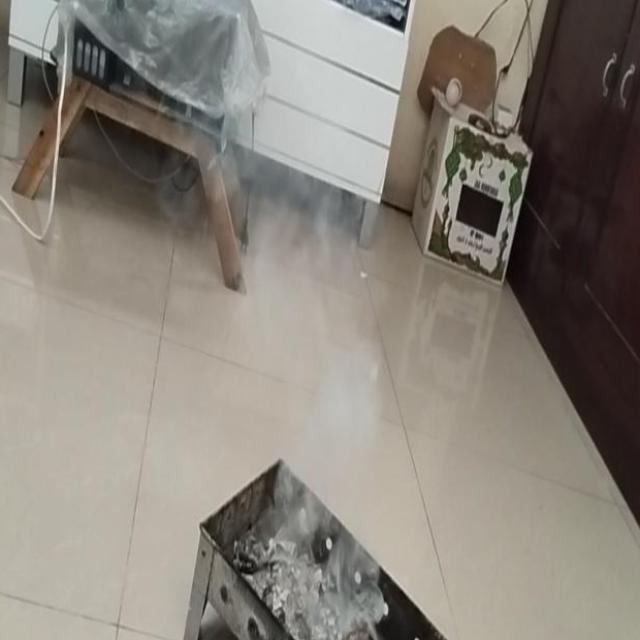fire: (218, 104, 352, 326), (276, 332, 378, 598)
